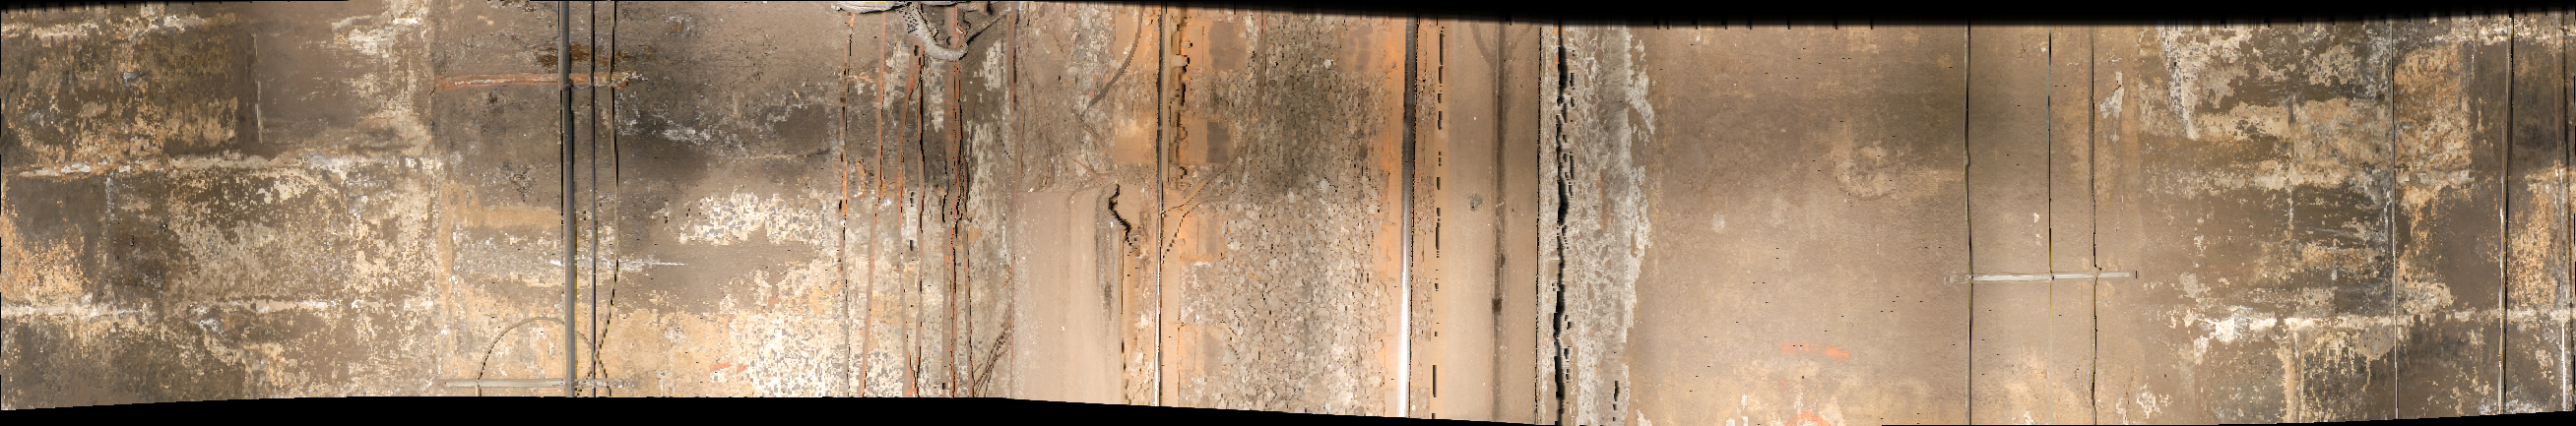pipes: (2081, 29, 2108, 426), (1958, 21, 1980, 426), (554, 2, 575, 398), (2500, 7, 2520, 426), (2387, 16, 2403, 426)
tracks: (1007, 7, 1549, 426)
